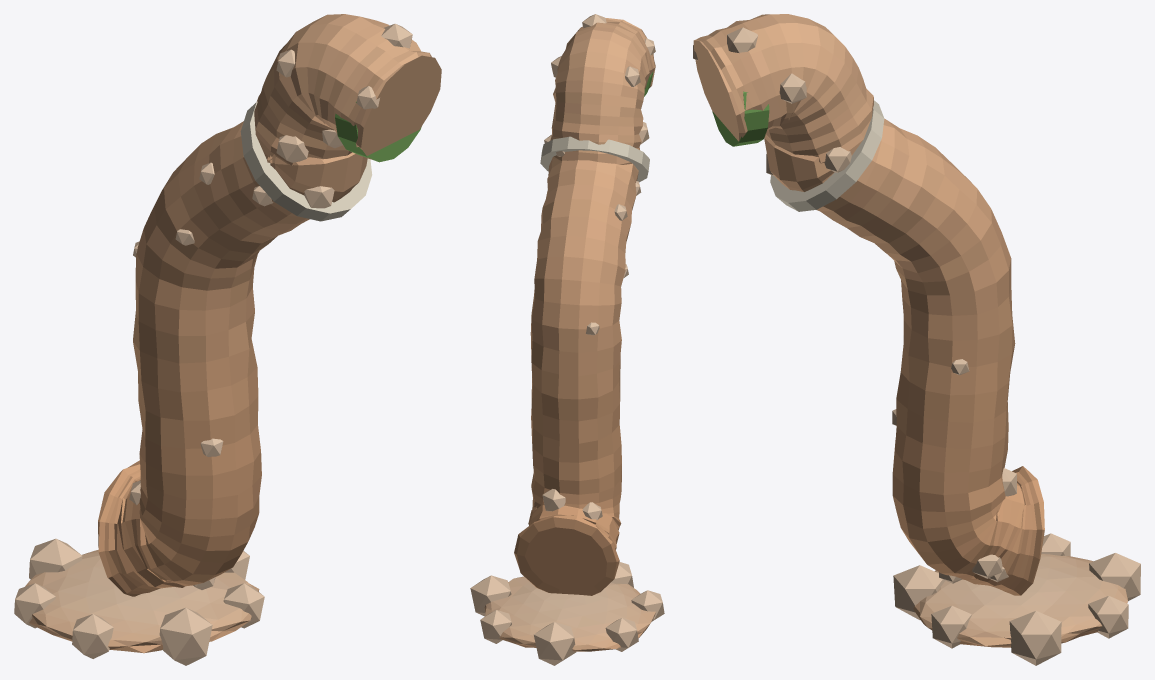
Rendered from goo_drop_tube_goo_2@garden.fbx.
3 renders of one model, left to right at view 1: azimuth 30°, elevation 25°; view 2: azimuth 150°, elevation 25°; view 3: azimuth 270°, elevation 25°, orthographic. The views are drawn at different scales.
Visible parts, largest first — view 1: goo_drop_tube_goo_2; view 2: goo_drop_tube_goo_2; view 3: goo_drop_tube_goo_2.
Part boxes in pixels (x1,y1,x2,y2): goo_drop_tube_goo_2: (14, 14, 441, 665); goo_drop_tube_goo_2: (470, 14, 664, 665); goo_drop_tube_goo_2: (693, 14, 1140, 665).
Bounding box in the file's own units: 8.66 × 21.79 × 13.69.
